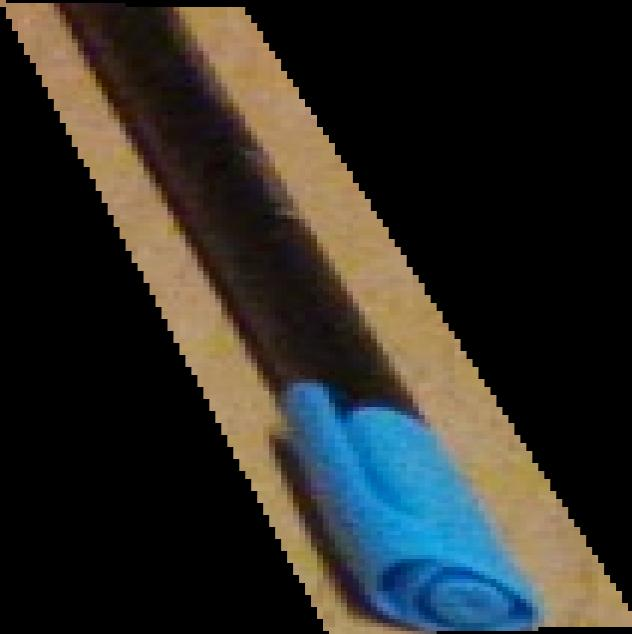blue: (1, 1, 632, 633)
